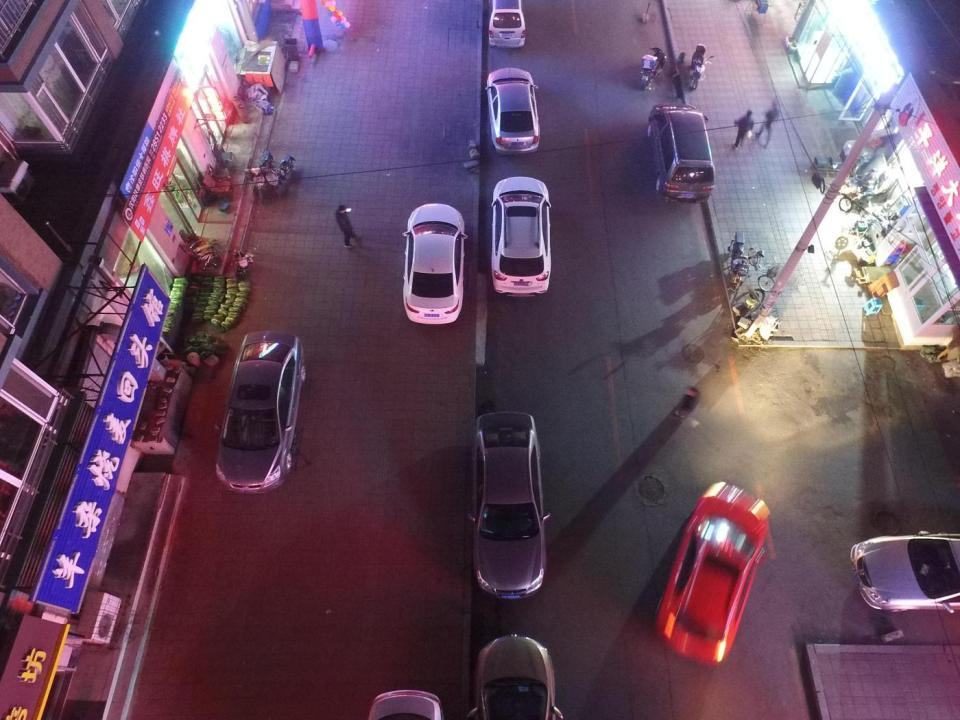car: (655, 484, 770, 660), (471, 412, 547, 600), (218, 332, 305, 492), (849, 533, 960, 609), (402, 202, 466, 323), (474, 634, 563, 719), (490, 178, 550, 300), (486, 66, 539, 156), (336, 205, 359, 249)
van: (648, 103, 712, 204), (485, 0, 528, 46)
